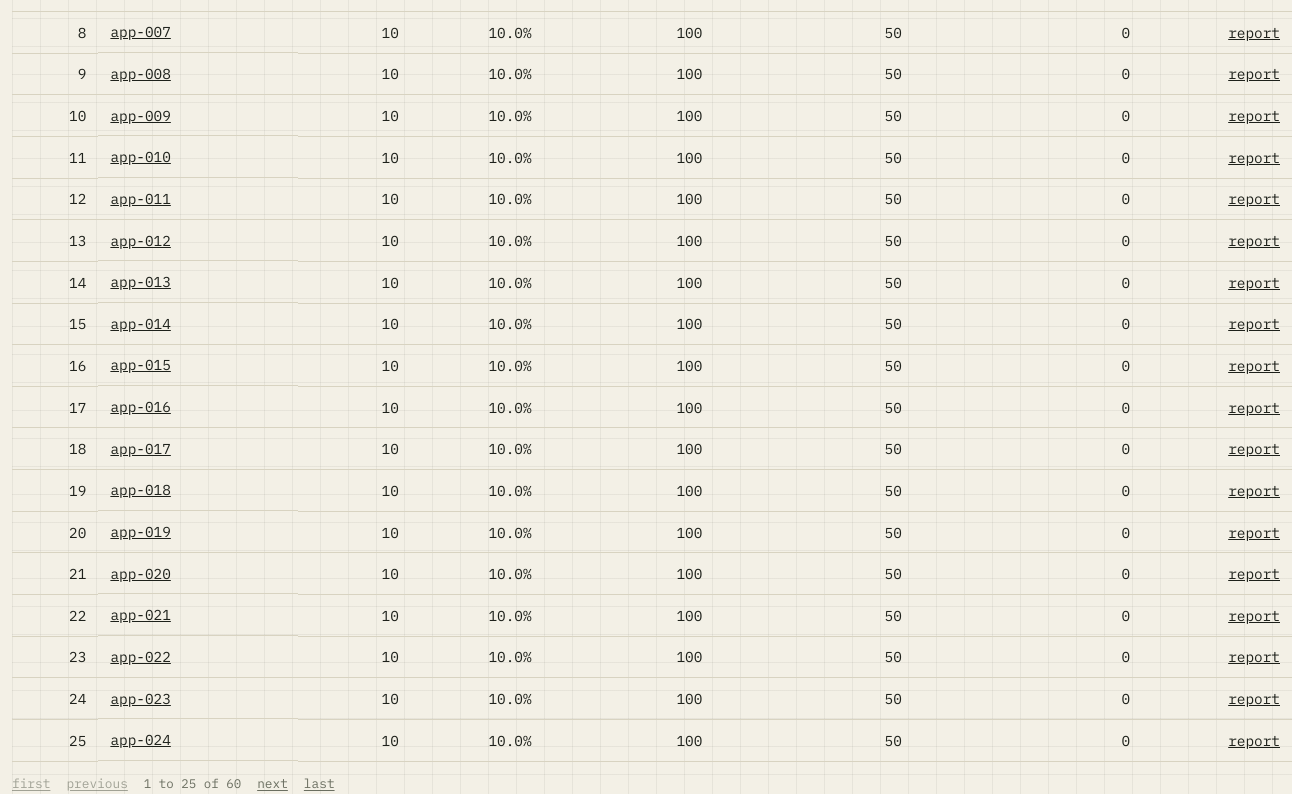
Scenario: BoardTable paging › walks forward and back
This screenshot has width=1292, height=794.
(page scrolled)
Step 1. Click the button "next" → click(272, 784), box x1=257 y1=774 x2=288 y2=793
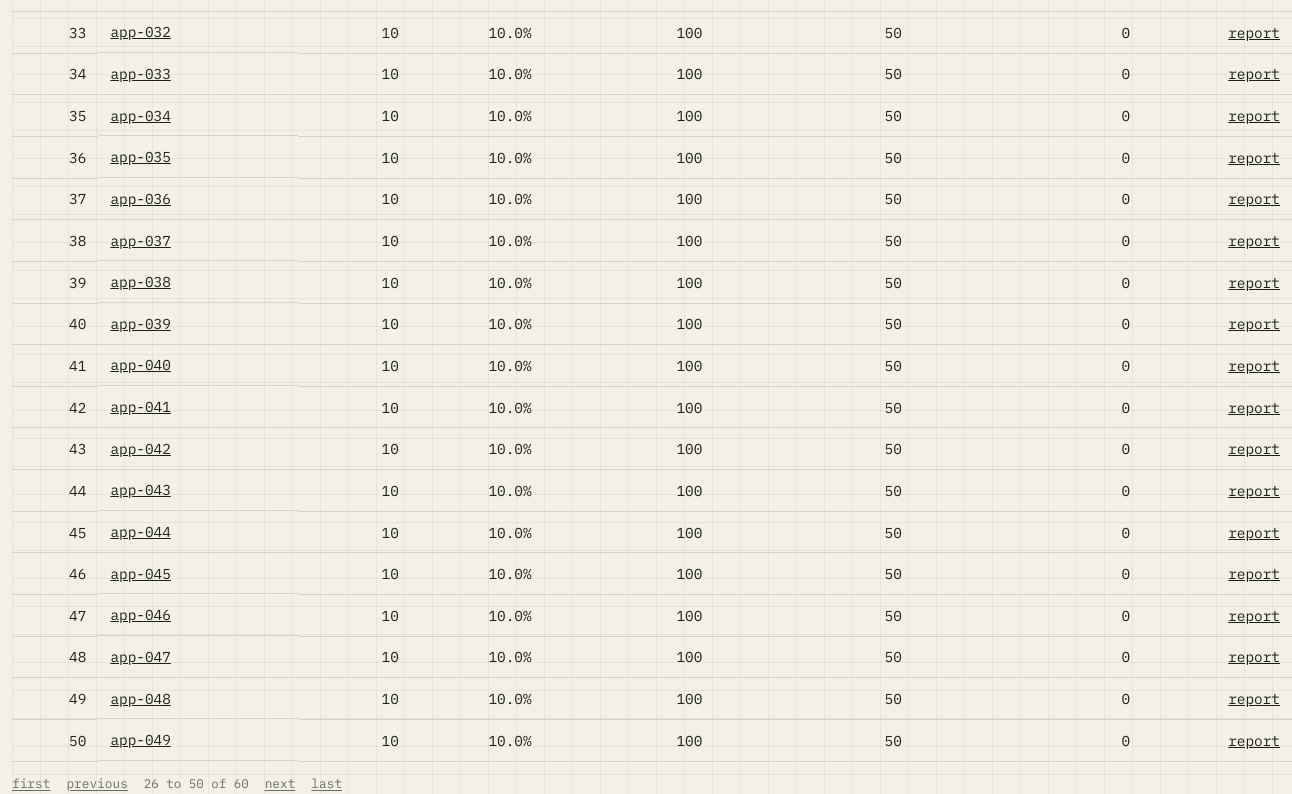
Check: the text "26 to 50 of 60" is shown, box x1=144 y1=774 x2=249 y2=793
Step 2. Click the button "previous" → click(97, 784), box x1=66 y1=774 x2=128 y2=793
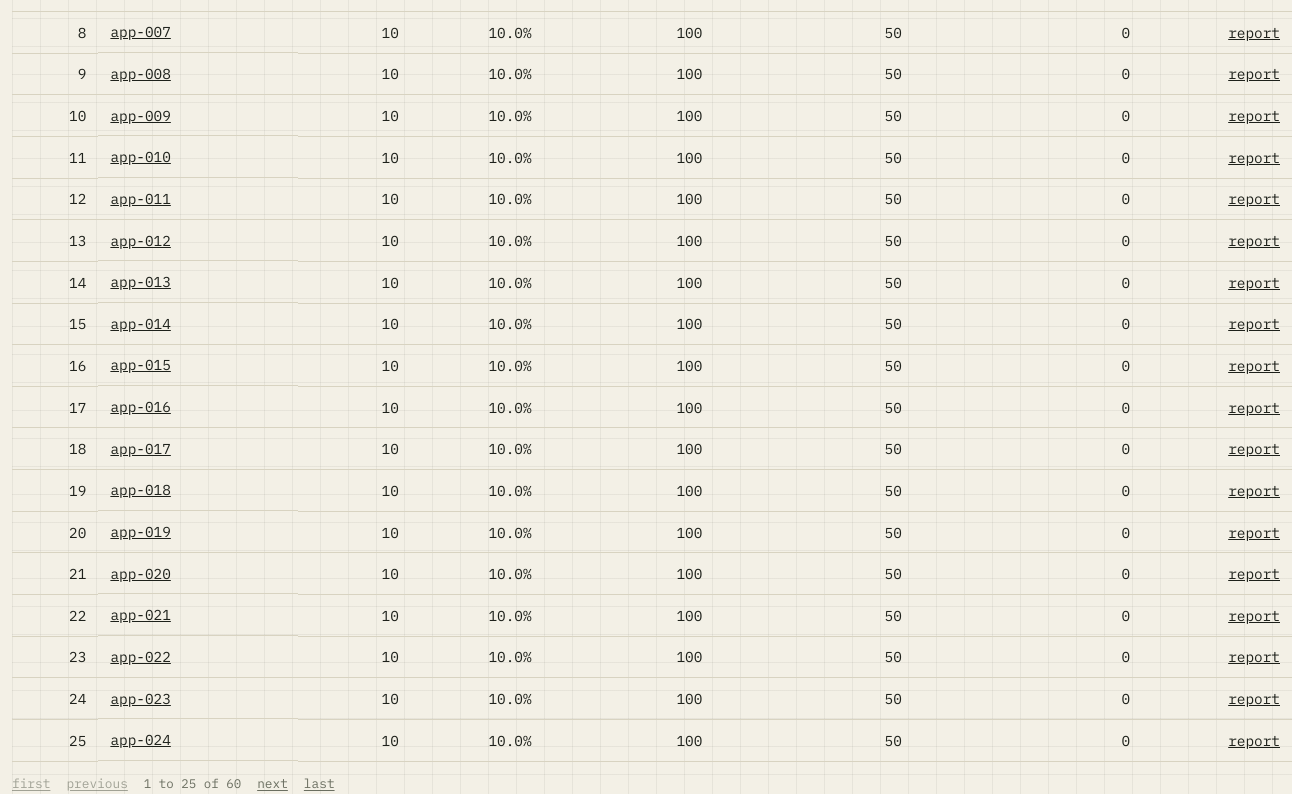
Check: the text "1 to 25 of 60" is shown, box x1=144 y1=774 x2=241 y2=793
